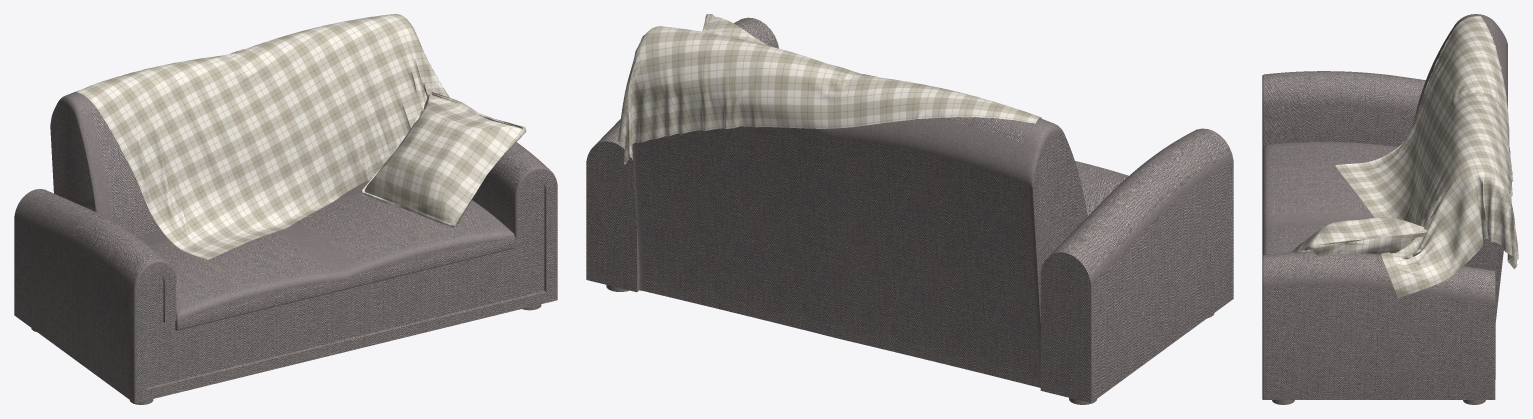
The picture shows the model from 3 angles, left to right: view 1: azimuth 30°, elevation 25°; view 2: azimuth 150°, elevation 25°; view 3: azimuth 270°, elevation 25°; orthographic projection. The views are drawn at different scales.
Visible parts, largest first — view 1: Material2 (×10); view 2: Material2 (×8); view 3: Material2 (×8).
Boxes of the visible parts, <box> form: Material2 (×10): <box>14,14,557,402</box>; Material2 (×8): <box>586,14,1233,402</box>; Material2 (×8): <box>1262,14,1518,399</box>.
Size of the model in its own units: 90.81 by 46.93 by 48.97.
Materials: 5 (3 with a texture image).
